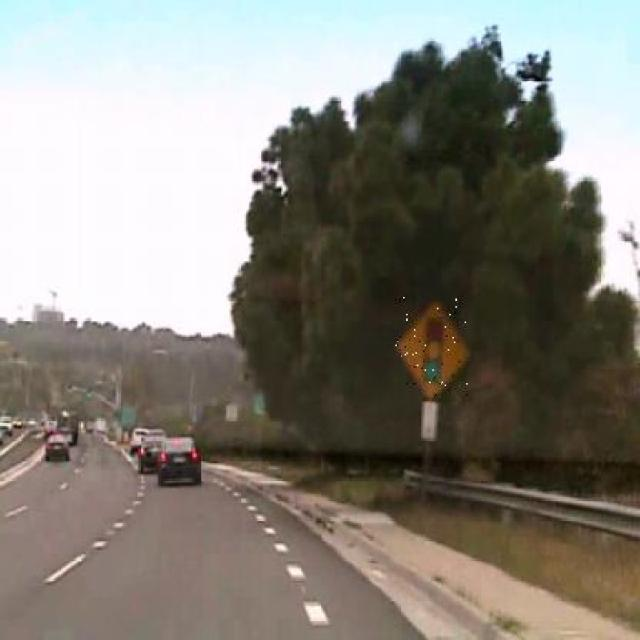signalAhead: (396, 297, 472, 400)
